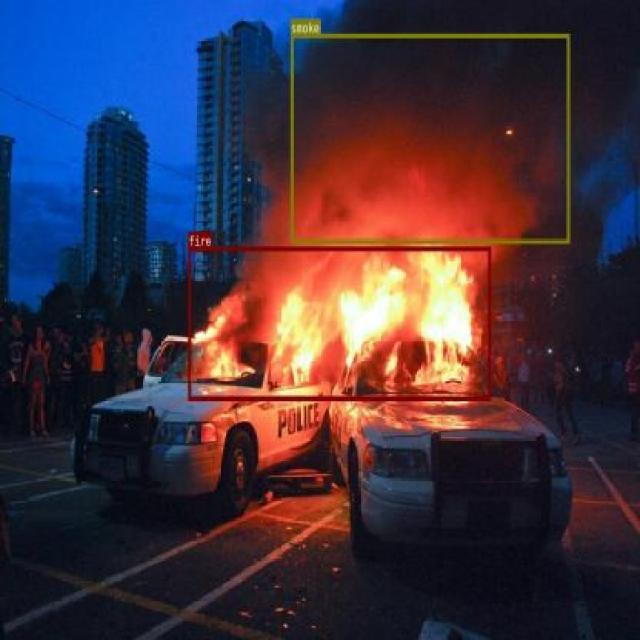Fire: (188, 246, 490, 399)
Smoke: (290, 33, 570, 242)
